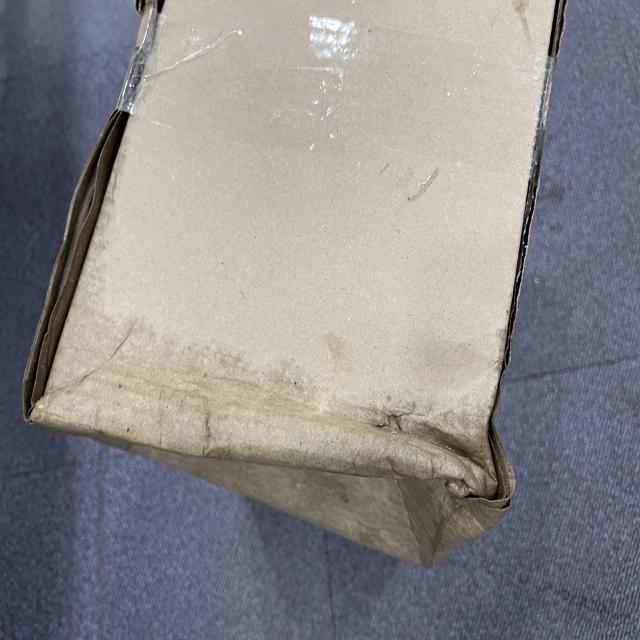wet: (59, 67, 231, 640)
